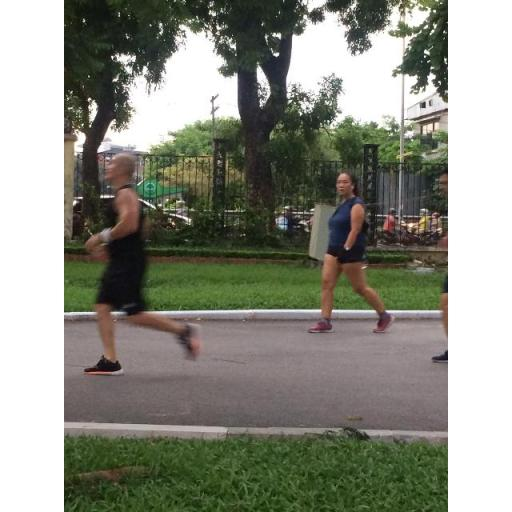Running: (76, 144, 214, 382), (309, 163, 404, 333)
